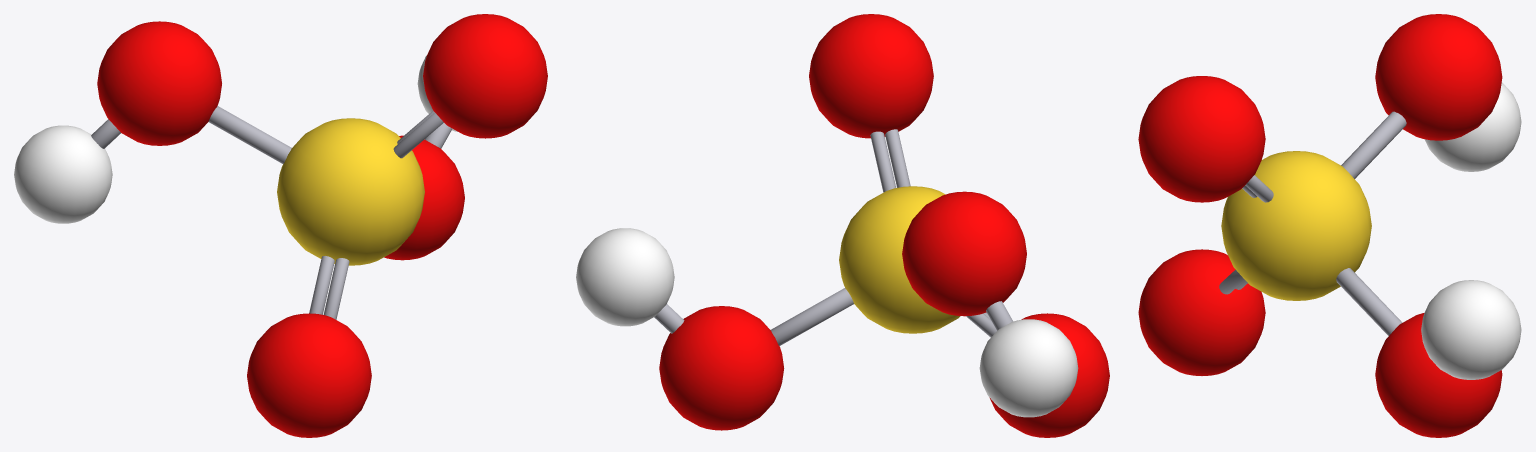
Rendered from sulfuric-acid.glb.
3 renders of one model, left to right at view 1: azimuth 30°, elevation 25°; view 2: azimuth 150°, elevation 25°; view 3: azimuth 270°, elevation 25°, orthographic.
Parts seen in each view (by area): view 1: S1, O2, O3, O4, H6, O0, bond3-0, bond1-0, bond1-1, bond2-1; view 2: O0, O4, O3, S1, H5, H6, O2, bond0-0, bond2-0, bond2-1; view 3: S1, O3, O4, O2, O0, H5, H6, bond0-0, bond3-0, bond2-0.
Part boxes in pixels (left/top/right/bottom): S1: left=277, top=118, right=424, bottom=265; O2: left=247, top=313, right=371, bottom=437; O3: left=423, top=14, right=547, bottom=138; O4: left=97, top=21, right=221, bottom=145; H6: left=14, top=125, right=112, bottom=223; O0: left=384, top=135, right=464, bottom=260; bond3-0: left=208, top=106, right=291, bottom=164; bond1-0: left=323, top=258, right=349, bottom=319; bond1-1: left=309, top=256, right=334, bottom=314; bond2-1: left=393, top=113, right=443, bottom=158; O0: left=659, top=306, right=784, bottom=430; O4: left=902, top=191, right=1026, bottom=316; O3: left=809, top=14, right=933, bottom=138; S1: left=839, top=186, right=960, bottom=333; H5: left=576, top=228, right=674, bottom=326; H6: left=979, top=319, right=1078, bottom=417; O2: left=989, top=313, right=1109, bottom=437; bond0-0: left=770, top=288, right=853, bottom=345; bond2-0: left=870, top=131, right=896, bottom=192; bond2-1: left=885, top=129, right=910, bottom=187; S1: left=1221, top=151, right=1371, bottom=300; O3: left=1138, top=76, right=1265, bottom=202; O4: left=1375, top=14, right=1502, bottom=140; O2: left=1138, top=249, right=1265, bottom=375; O0: left=1375, top=313, right=1502, bottom=437; H5: left=1421, top=280, right=1521, bottom=379; H6: left=1424, top=82, right=1521, bottom=171; bond0-0: left=1336, top=268, right=1402, bottom=336; bond3-0: left=1341, top=111, right=1406, bottom=178; bond2-0: left=1245, top=175, right=1273, bottom=202.
Bounding box in the file's own units: 4.12 × 2.98 × 2.75.
